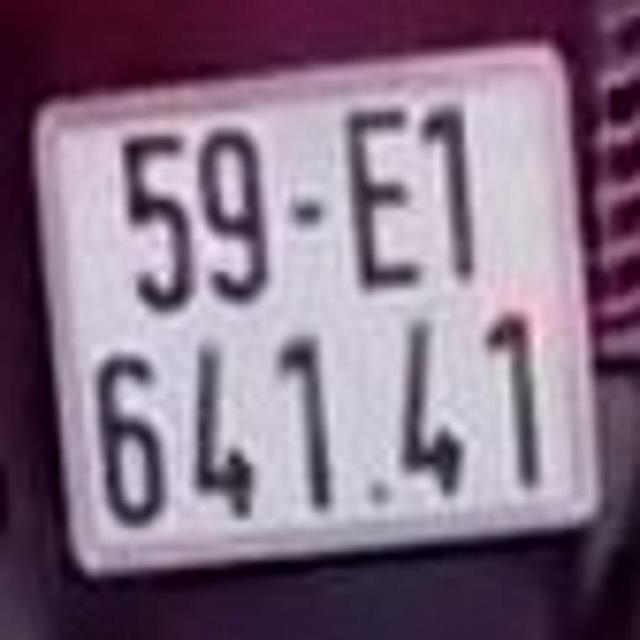1: (270, 324, 350, 516), (481, 297, 556, 488), (415, 98, 492, 274)
4: (387, 306, 473, 504), (184, 337, 266, 528)
5: (107, 96, 193, 320)
6: (87, 342, 173, 534)
9: (192, 99, 275, 311)
E: (336, 92, 419, 290)
